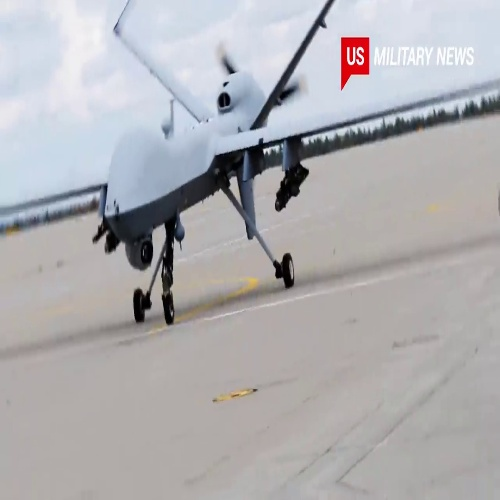uav650: (3, 1, 493, 327)
